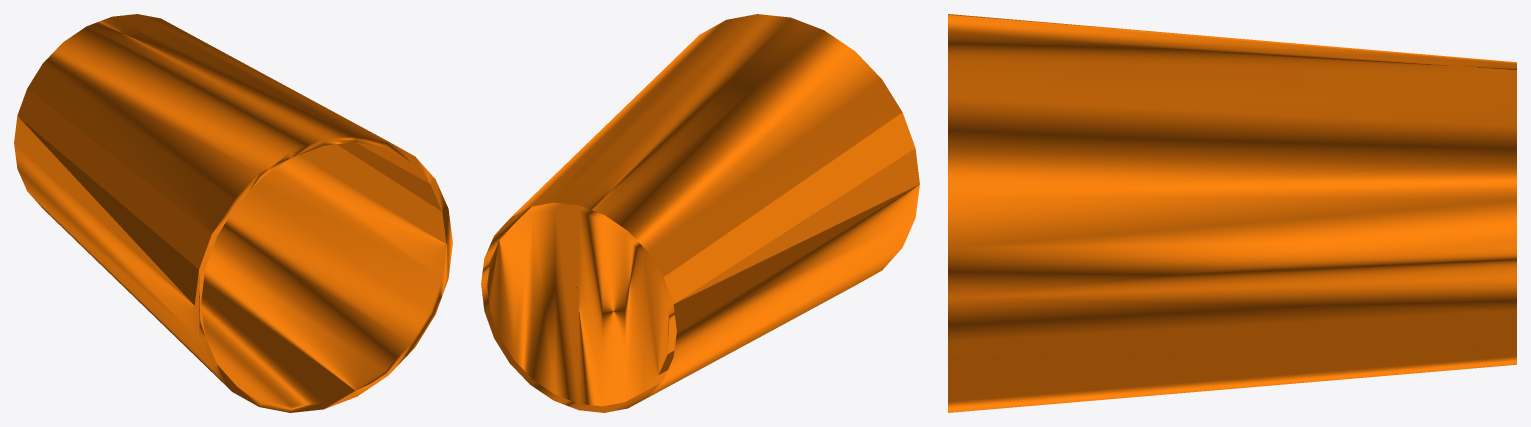
File: model_align.obj
3 views of the same model, side by side, from view 1: azimuth 30°, elevation 25°; view 2: azimuth 150°, elevation 25°; view 3: azimuth 270°, elevation 25° (orthographic). The views are drawn at different scales.
Bounding box in the file's own units: 0.0846 × 0.0846 × 0.1202.
